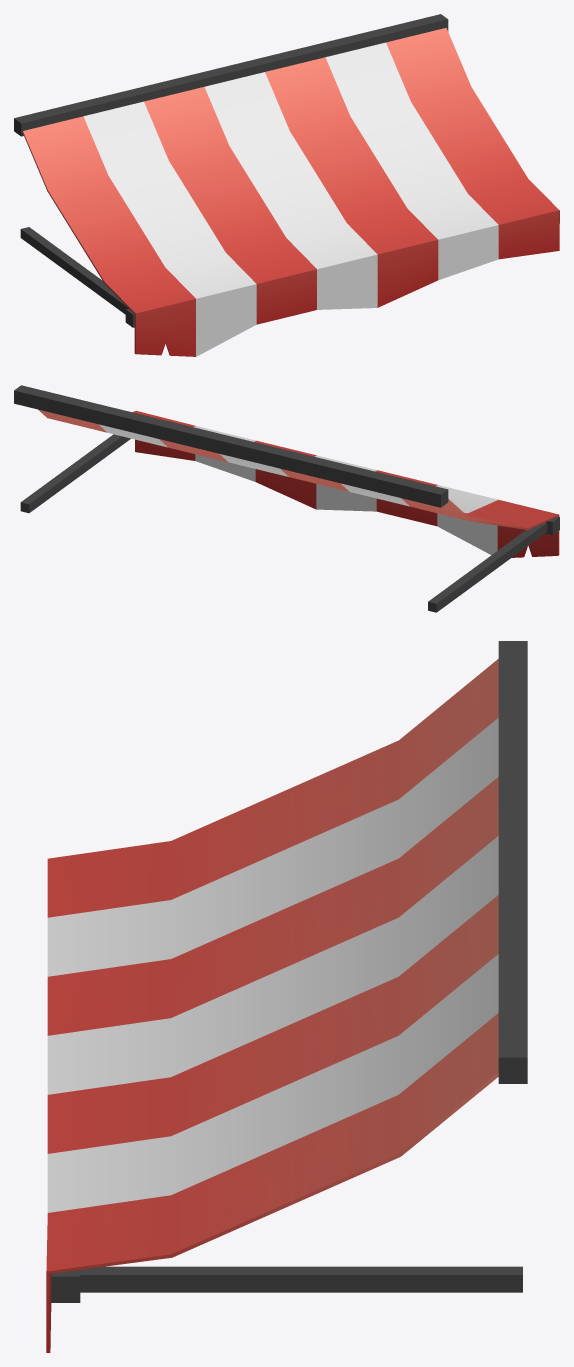
The model's file is SM_BuildingsDecor_30.fbx.
3 views of the same model, one above another, from view 1: azimuth 30°, elevation 25°; view 2: azimuth 150°, elevation 25°; view 3: azimuth 270°, elevation 25° (orthographic). The views are drawn at different scales.
Parts seen in each view (by area): view 1: SM_BuildingsDecor_30; view 2: SM_BuildingsDecor_30; view 3: SM_BuildingsDecor_30.
Boxes of the visible parts, x1,y1,x2,y2 form: SM_BuildingsDecor_30: [14, 14, 559, 356]; SM_BuildingsDecor_30: [14, 385, 559, 612]; SM_BuildingsDecor_30: [46, 641, 527, 1352].
Bounding box in the file's own units: 2.5 × 0.9295 × 1.22.
